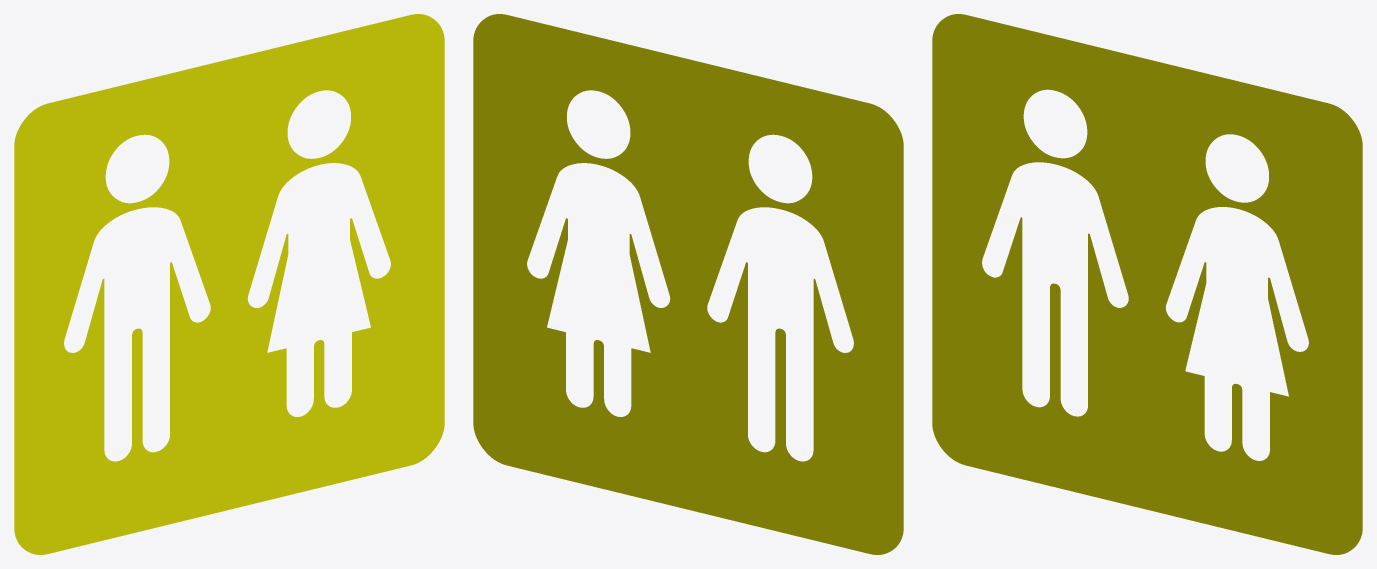
Rendered from restroom_model.glb.
The picture shows the model from 3 angles, left to right: view 1: azimuth 30°, elevation 25°; view 2: azimuth 150°, elevation 25°; view 3: azimuth 330°, elevation 25°; orthographic projection.
Visible parts, largest first — view 1: Text.633_633; view 2: Text.633_633; view 3: Text.633_633.
Part boxes in pixels (x1=…): Text.633_633: x1=14, y1=14, x2=444, y2=554; Text.633_633: x1=473, y1=14, x2=903, y2=554; Text.633_633: x1=932, y1=14, x2=1362, y2=554.
Bounding box in the file's own units: 1.02 × 1.02 × 3.6e-06.
